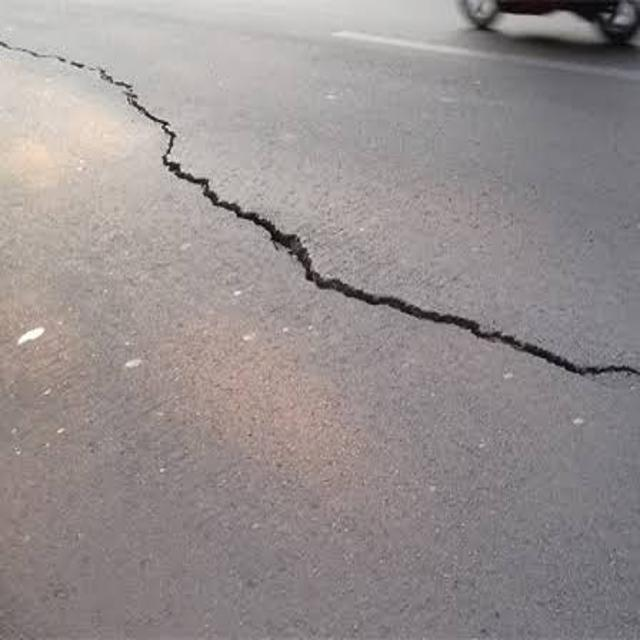Memanjang: (0, 34, 640, 400)
